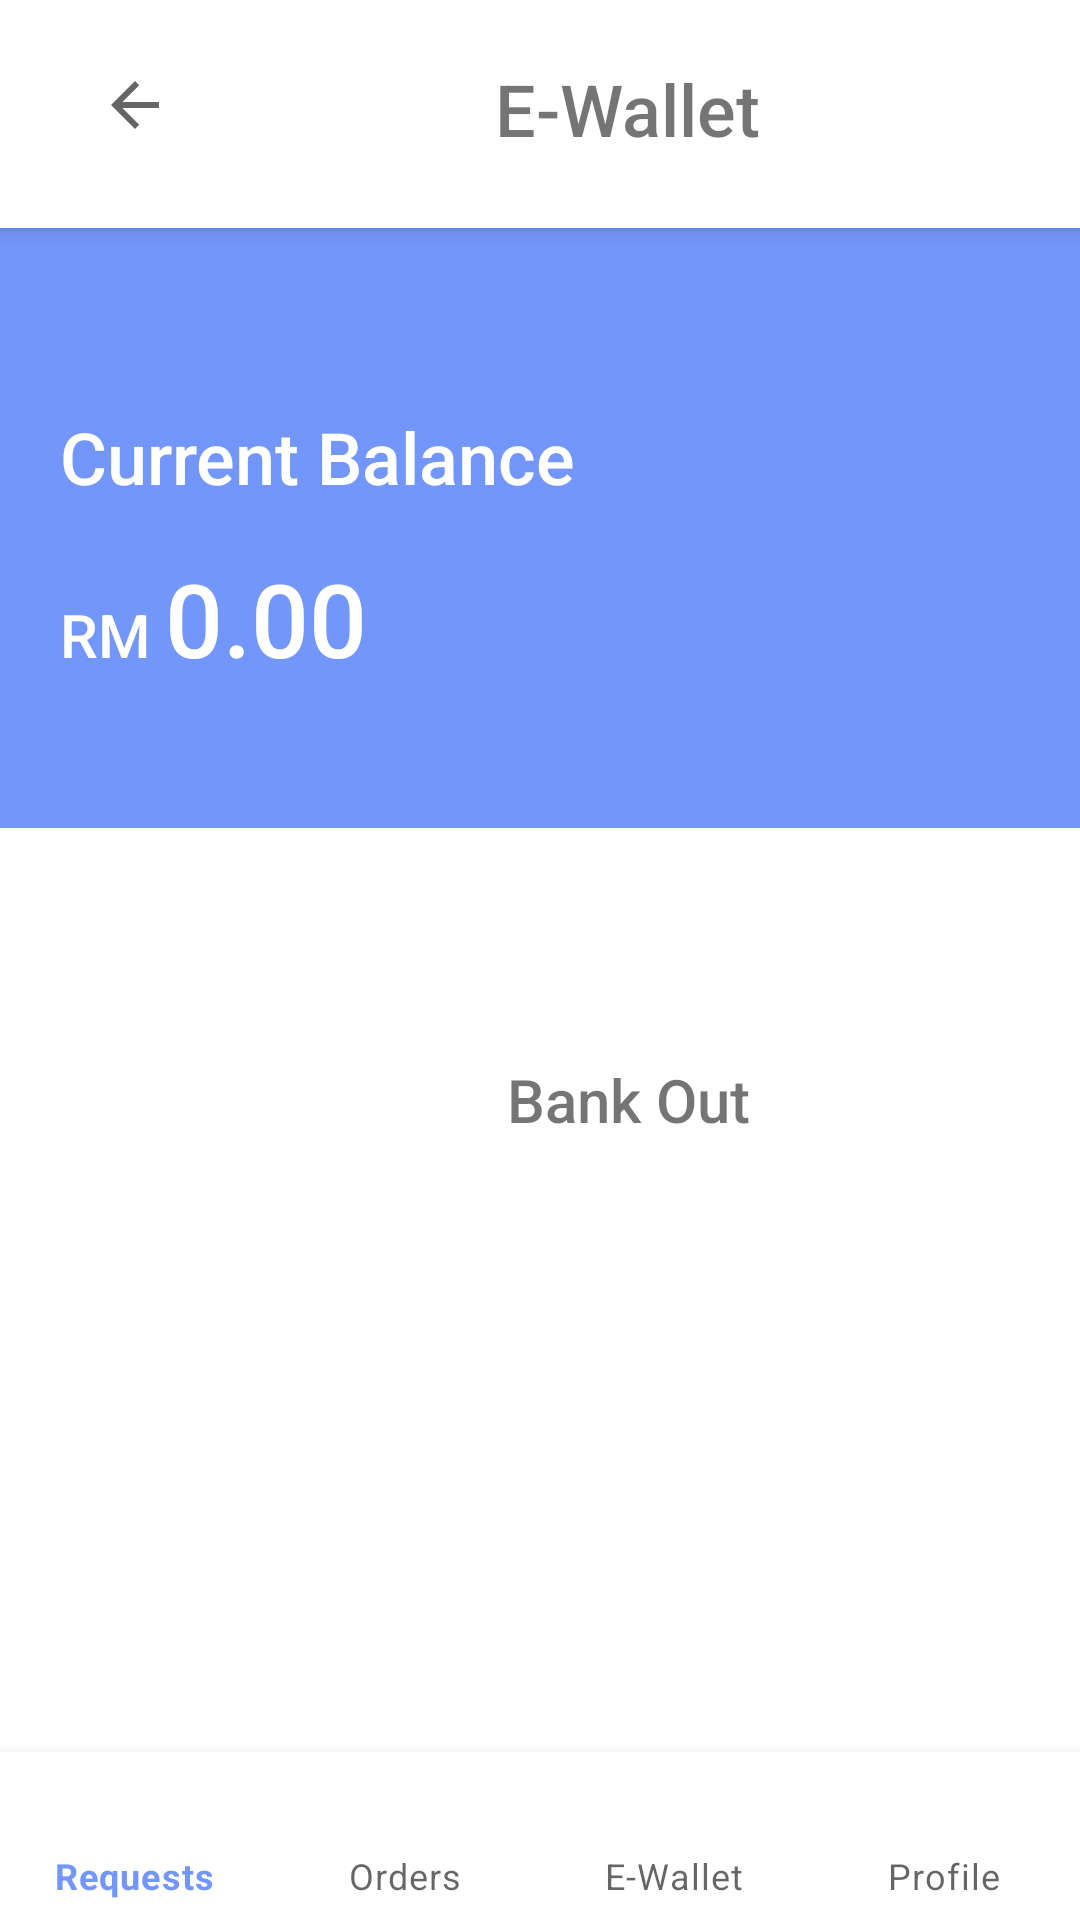

Named icons in this screenshot (1080px×1920px) and their bounding boxes, (x1, y1, x2, y2):
Back To Menu: (111, 81, 159, 129)
